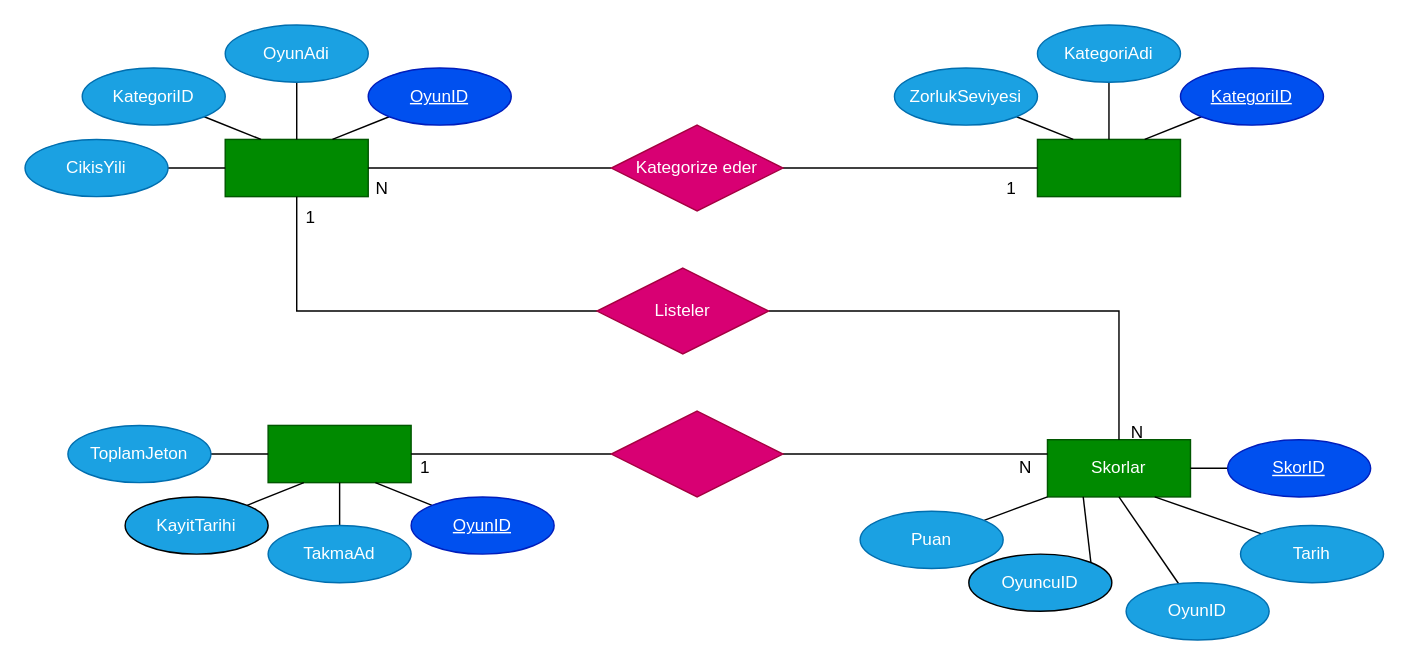
This 1409x665 diagram has some shape labels left out. Here are the shapes that lost their labels. From the top down, the centre of each, then its label:
At pixel 296 167: "Oyunlar".
At pixel 1108 167: "Kategoriler".
At pixel 339 453: "Oyuncular".
At pixel 696 453: "Kaydeder".
